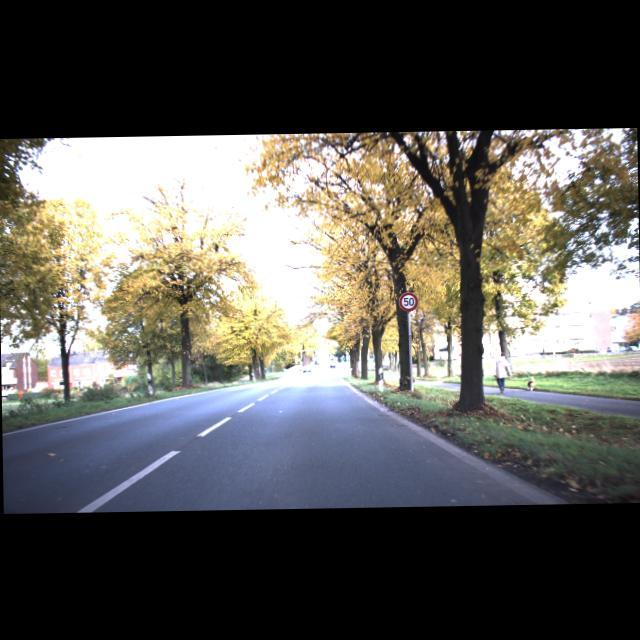prohibitory: (398, 291, 417, 310)
